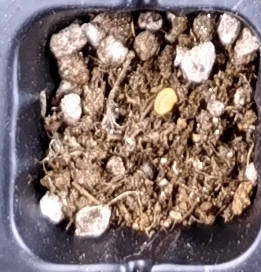pepper seed: (64, 30, 242, 146)
